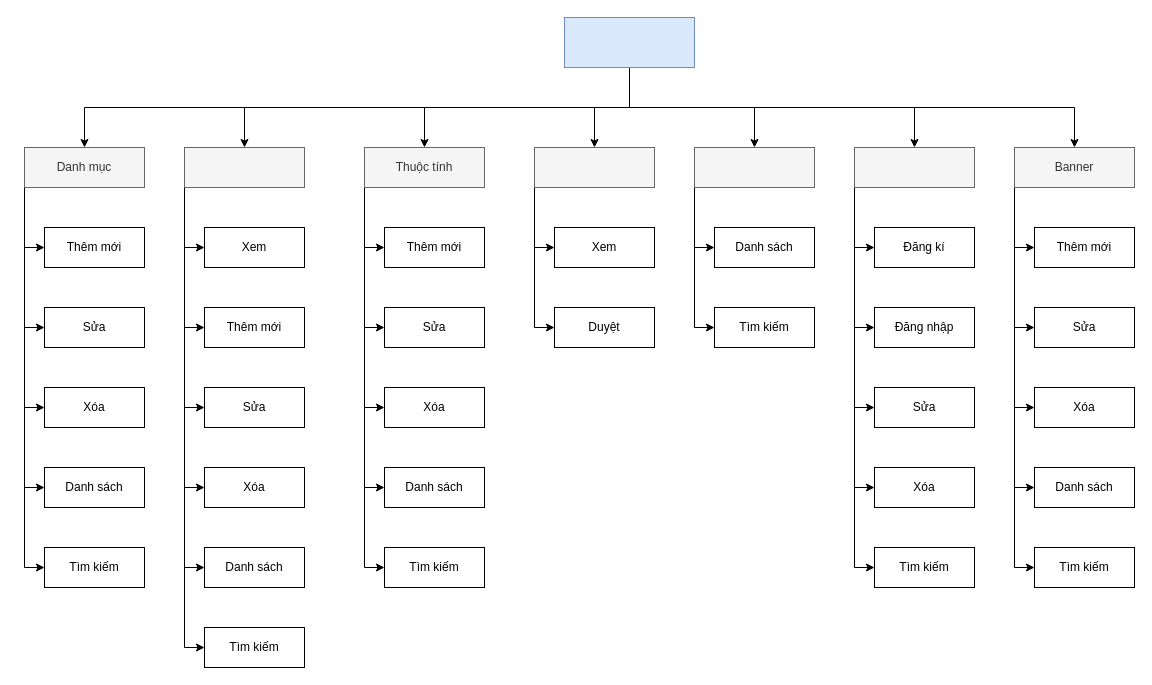
The diagram is 1152 pixels wide and 685 high, and some of its shapes have lost their labels. Here are the shapes that lost their labels. From the top down, the box of each, then its label:
(564, 16, 694, 68): Admin
(184, 146, 304, 188): Sản phẩm
(534, 146, 654, 188): Đơn hàng
(694, 146, 814, 188): Khách hàng
(854, 146, 974, 188): Quản trị
